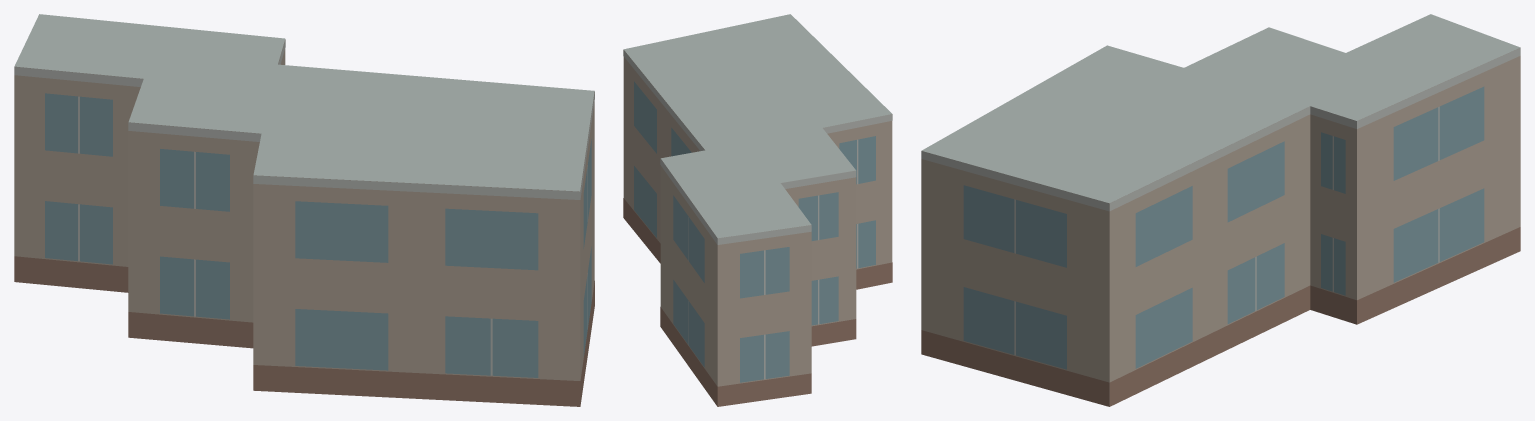
File: survey-upis-32884858.glb
The picture shows the model from 3 angles, left to right: view 1: azimuth 30°, elevation 25°; view 2: azimuth 150°, elevation 25°; view 3: azimuth 270°, elevation 25°; orthographic projection. The views are drawn at different scales.
Visible parts, largest first — view 1: survey-upis-32884858.tmp; view 2: survey-upis-32884858.tmp; view 3: survey-upis-32884858.tmp.
Boxes of the visible parts, x1,y1,x2,y2 form: survey-upis-32884858.tmp: (14,14,594,406); survey-upis-32884858.tmp: (623,14,892,406); survey-upis-32884858.tmp: (921,14,1520,406).
Size of the model in its own units: 12.17 by 6.1 by 16.29.
